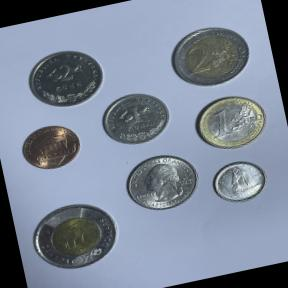coin: (20, 190, 128, 281), (159, 15, 258, 97), (19, 39, 111, 117), (114, 144, 207, 219), (187, 86, 275, 158), (11, 116, 90, 178), (202, 152, 274, 211)
